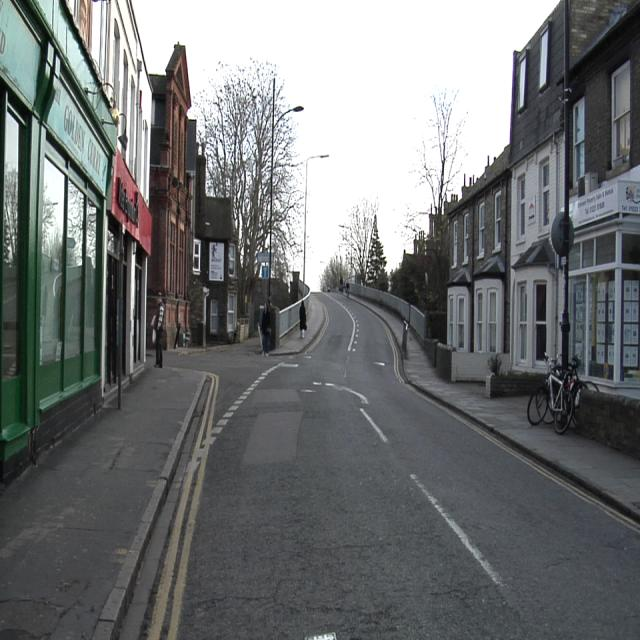Building: (1, 0, 208, 476), (449, 0, 638, 387)
Road: (176, 297, 636, 638)
Tree: (197, 58, 299, 301), (411, 85, 467, 214), (319, 195, 385, 290)
person: (261, 304, 271, 355)
